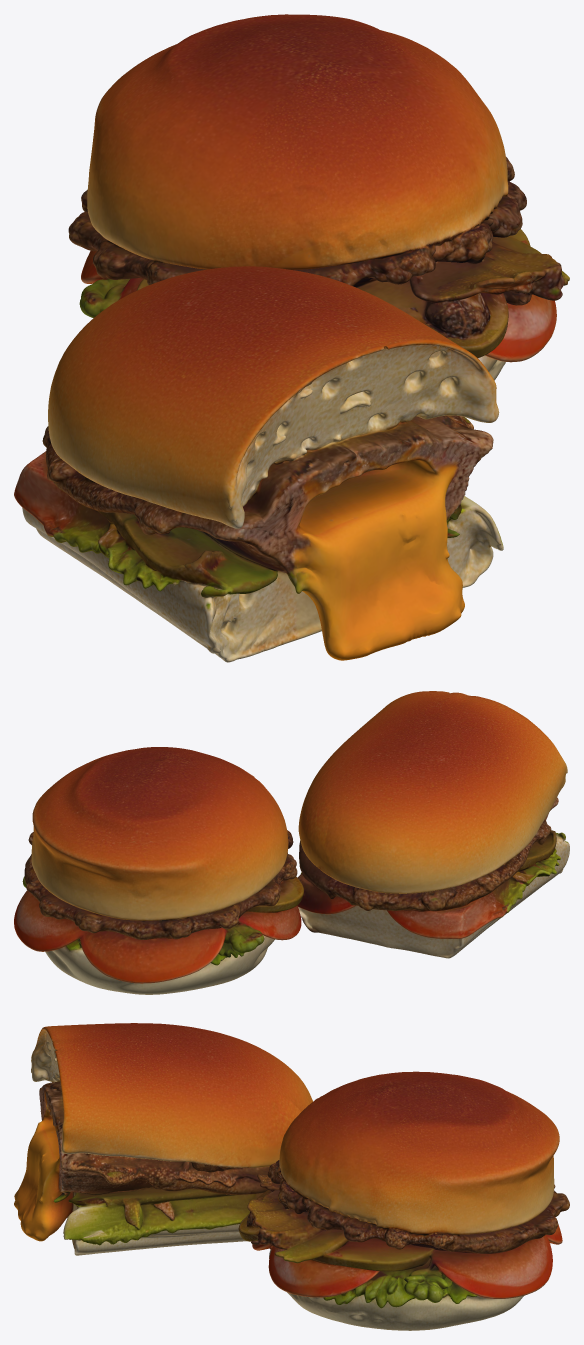
Rendered from pop+3d+model.glb.
3 views of the same model, one above another, from view 1: azimuth 30°, elevation 25°; view 2: azimuth 150°, elevation 25°; view 3: azimuth 270°, elevation 25° (orthographic). The views are drawn at different scales.
Visible parts, largest first — view 1: tripo_node_b1dd8b09-0d4d-44a8-a8a3-1e874ffb4cc3; view 2: tripo_node_b1dd8b09-0d4d-44a8-a8a3-1e874ffb4cc3; view 3: tripo_node_b1dd8b09-0d4d-44a8-a8a3-1e874ffb4cc3.
Boxes of the visible parts, box(x1,y1,x2,y2) form: tripo_node_b1dd8b09-0d4d-44a8-a8a3-1e874ffb4cc3: box(14, 14, 569, 662); tripo_node_b1dd8b09-0d4d-44a8-a8a3-1e874ffb4cc3: box(14, 691, 569, 994); tripo_node_b1dd8b09-0d4d-44a8-a8a3-1e874ffb4cc3: box(14, 1023, 569, 1330).
Size of the model in its own units: 0.8153 by 0.3923 by 0.9815.
Materials: 1 (1 with a texture image).
